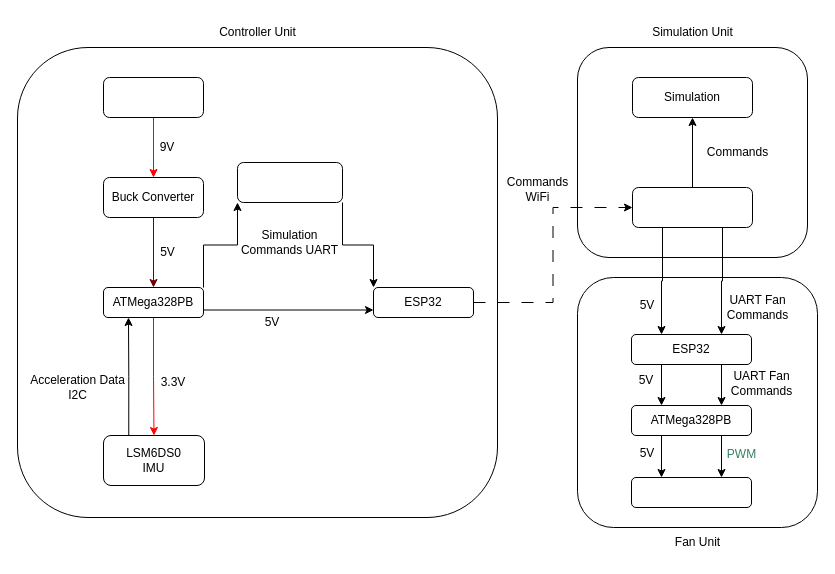
Image size: 835x574. Some labels were removed from this diagram. Each missing label, with the centre of its shape:
"9V battery" goes at point 153,97.
"Fan Motor" goes at point 691,492.
"Laptop Python Socket" goes at point 692,207.
"Logic Level Shifter (5V to 3.3V)" goes at point 289,182.
